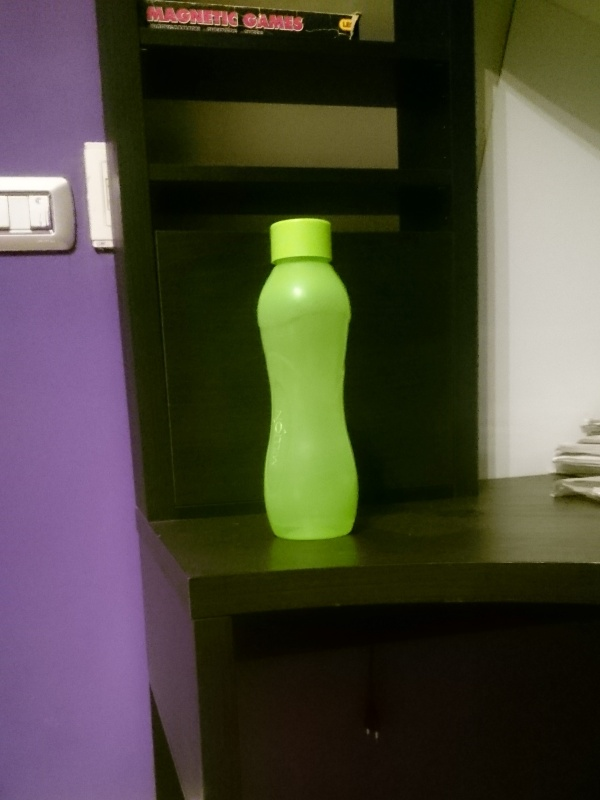my bottle: (258, 215, 358, 540)
